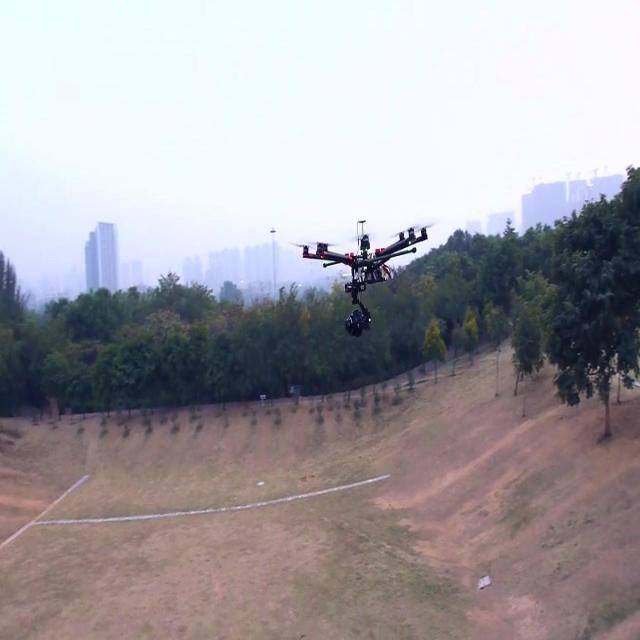UAV: (288, 219, 432, 337)
